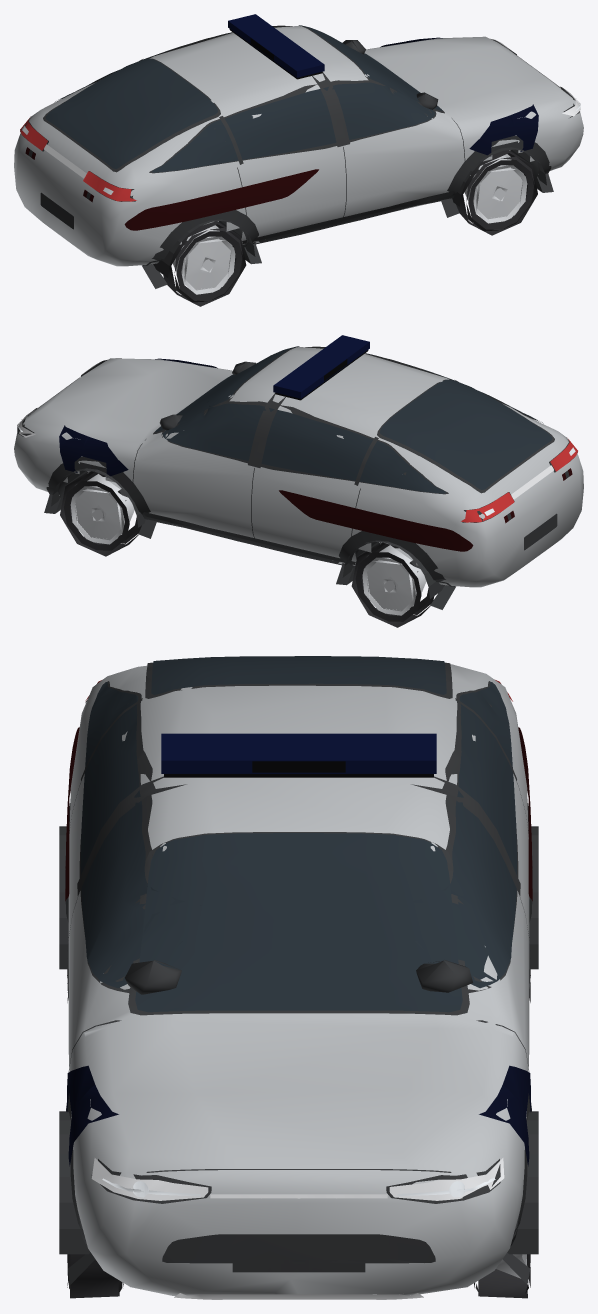
The model's file is police_pn_far.glb.
The picture shows the model from 3 angles, top to bottom: view 1: azimuth 30°, elevation 25°; view 2: azimuth 150°, elevation 25°; view 3: azimuth 270°, elevation 25°; orthographic projection. The views are drawn at different scales.
Visible parts, largest first — view 1: Body, Glass-1, RearGlass, WheelRR, WheelFR, PNRed-1, LightBar, ArchTrim-1.001, ArchTrim-1, PNArrowB-1, Windshield, WinFrame-1 (+8 smaller); view 2: Body, Glass1, RearGlass, WheelFL, WheelRL, PNRed1, LightBar, ArchTrim1.001, ArchTrim1, PNArrowB1, Windshield, WinFrame1 (+8 smaller); view 3: Body, Windshield, Glass-1, Glass1, LightBar, RearGlass, Intake, HeadReflector, WsFrame, ArchLiner, ArchLiner.001, PNArrowB-1 (+18 smaller).
Boxes of the visible parts, x1,y1,x2,y2 form: Body: (14,25,583,266); Glass-1: (152,80,435,172); RearGlass: (45,58,217,168); WheelRR: (163,221,246,306); WheelFR: (456,150,537,235); PNRed-1: (124,169,318,230); LightBar: (228,14,324,77); ArchTrim-1.001: (142,210,261,288); ArchTrim-1: (441,135,553,217); PNArrowB-1: (469,104,538,156); Windshield: (299,25,442,110); WinFrame-1: (149,80,436,173); Body: (14,347,583,587); Glass1: (162,401,445,493); RearGlass: (380,379,552,489); WheelFL: (60,471,141,556); WheelRL: (351,542,434,627); PNRed1: (279,490,473,551); LightBar: (273,335,369,398); ArchTrim1.001: (336,531,455,609); ArchTrim1: (44,456,156,538); PNArrowB1: (59,425,128,477); Windshield: (155,346,298,431); WinFrame1: (161,401,448,494); Body: (68,664,529,1295); Windshield: (135,833,462,1012); Glass-1: (80,682,201,988); Glass1: (396,682,516,988); LightBar: (161,733,436,773); RearGlass: (151,656,446,694); Intake: (162,1234,435,1263); HeadReflector: (91,1158,504,1200); WsFrame: (128,832,469,1015); ArchLiner: (507,1111,538,1254); ArchLiner.001: (59,1111,90,1254); PNArrowB-1: (66,1065,118,1166).
Size of the model in its own units: 4.56 by 1.7 by 1.95.
